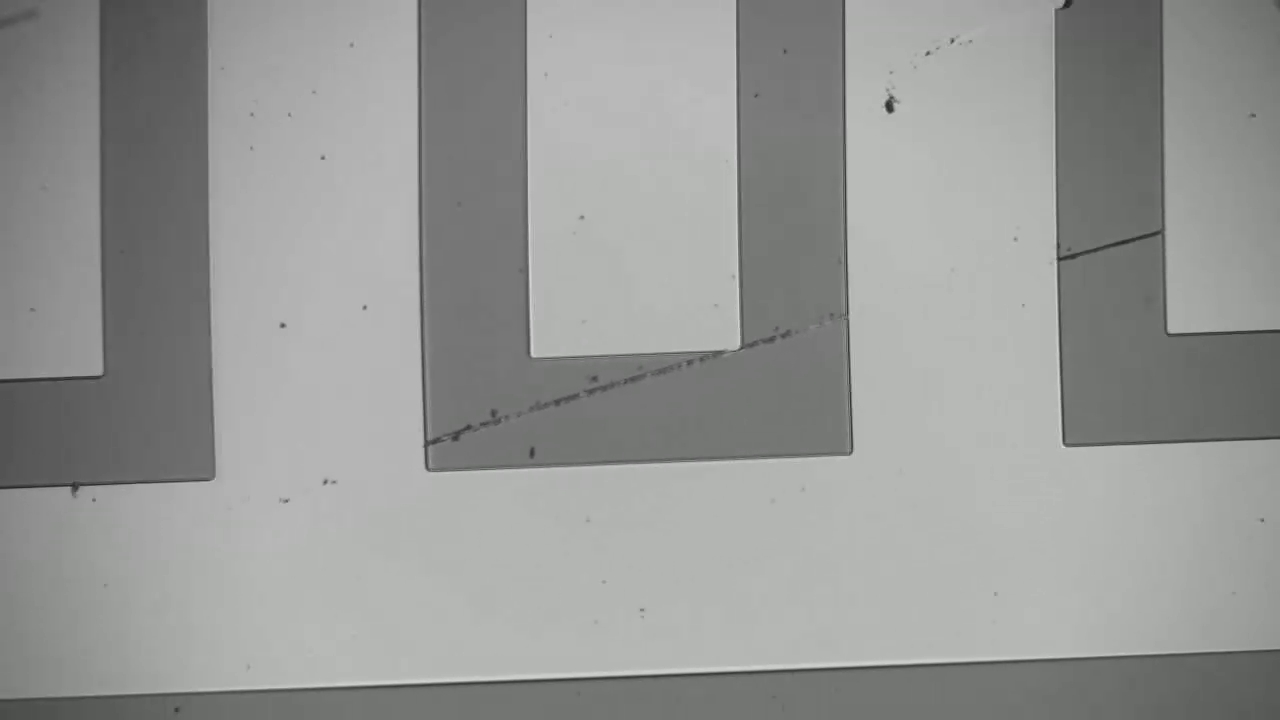scratch: (427, 317, 846, 442), (1069, 226, 1162, 259)
